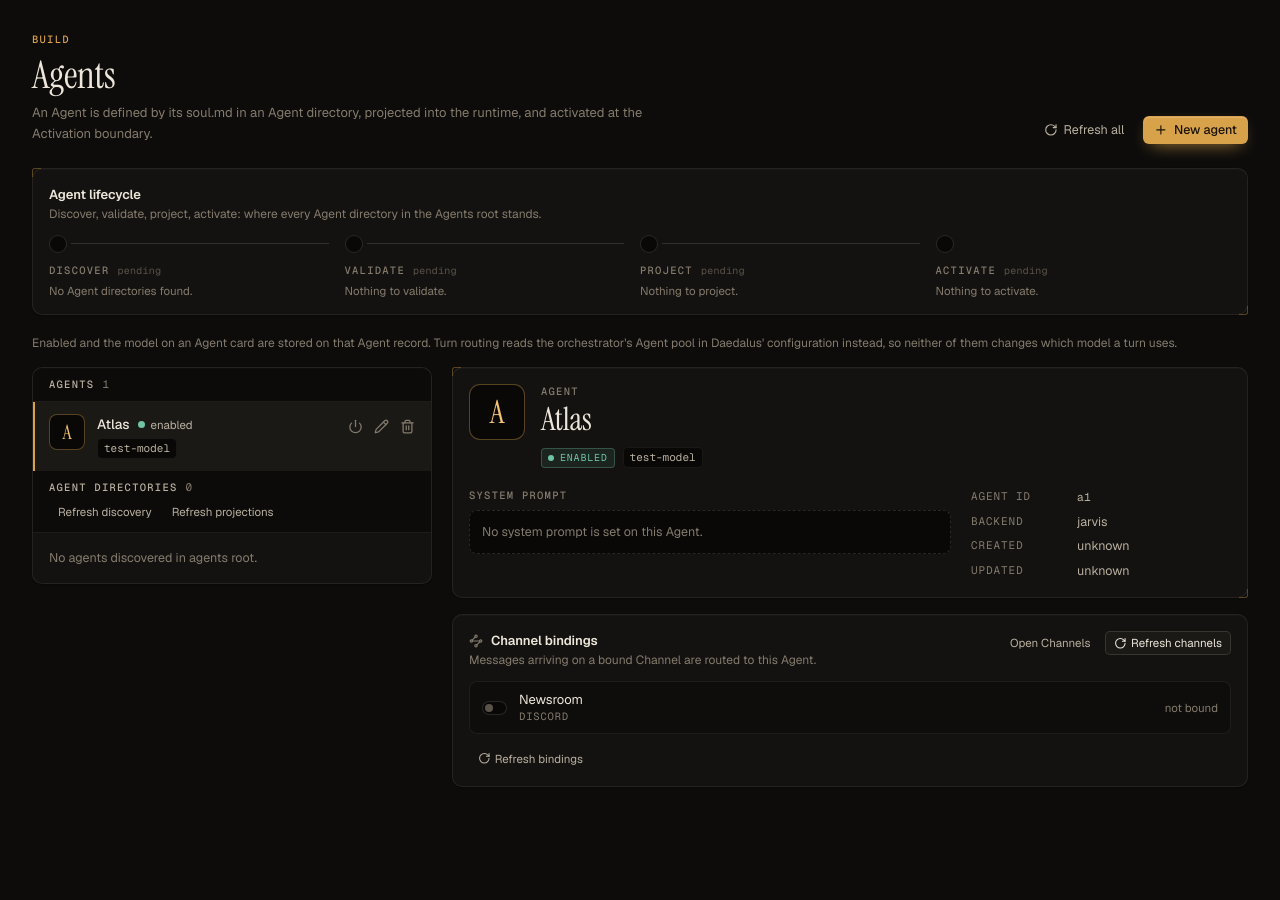
Test: Agent channel resources › surfaces a failed mutation without changing the known snapshot and reloads before another attempt
Expected: the heading "Atlas" is shown, [97,414,130,434]
Click the button "Newsroom discord not bound": (551,699) [470,682,1230,733]
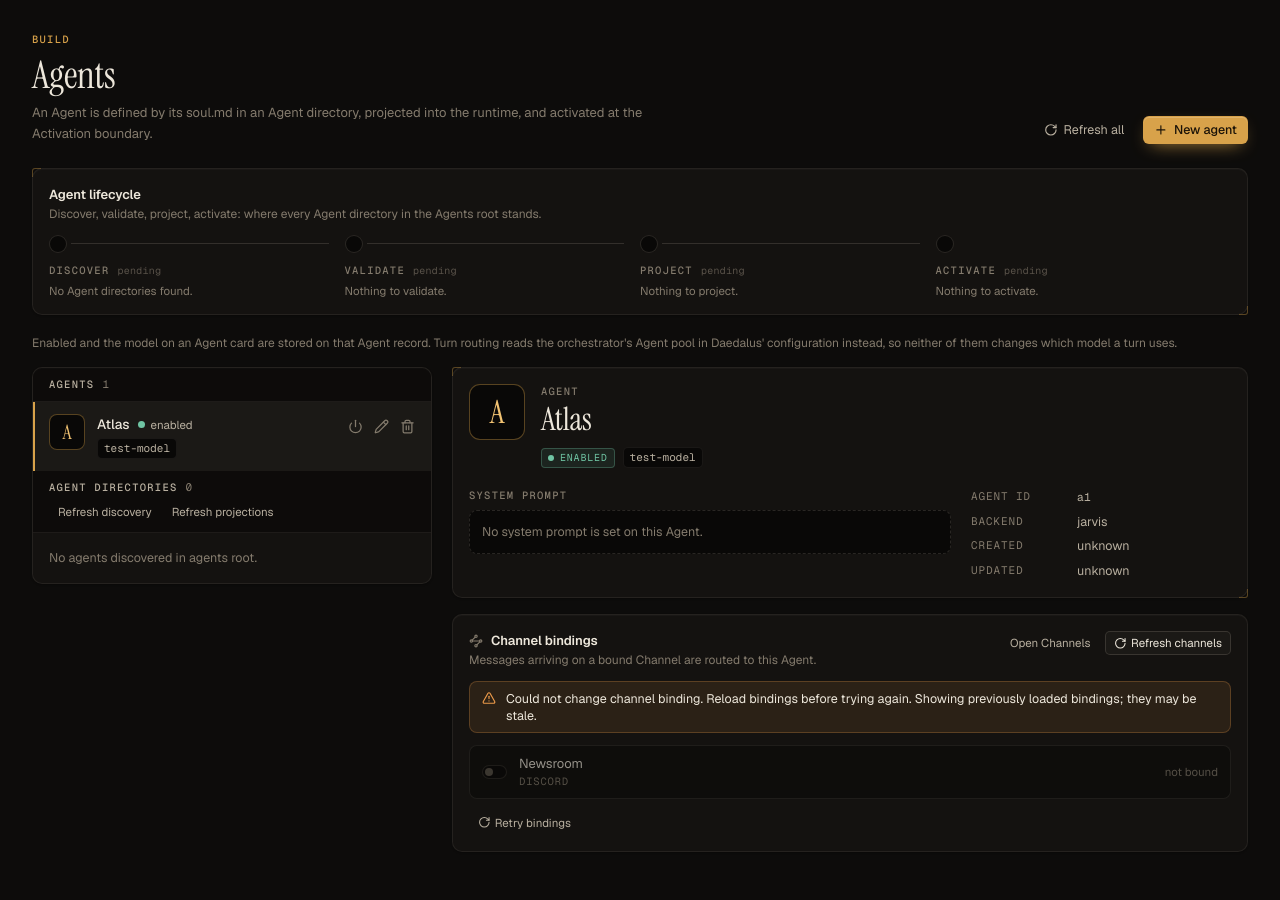
Now the message shows "Could not change channel binding", box [506,690,915,707]
Now the button "Newsroom discord not bound" is disabled, box [470,746,1230,798]
Click the button with aria-label "Retry bindings for Atlas": (524,822) [469,810,580,834]
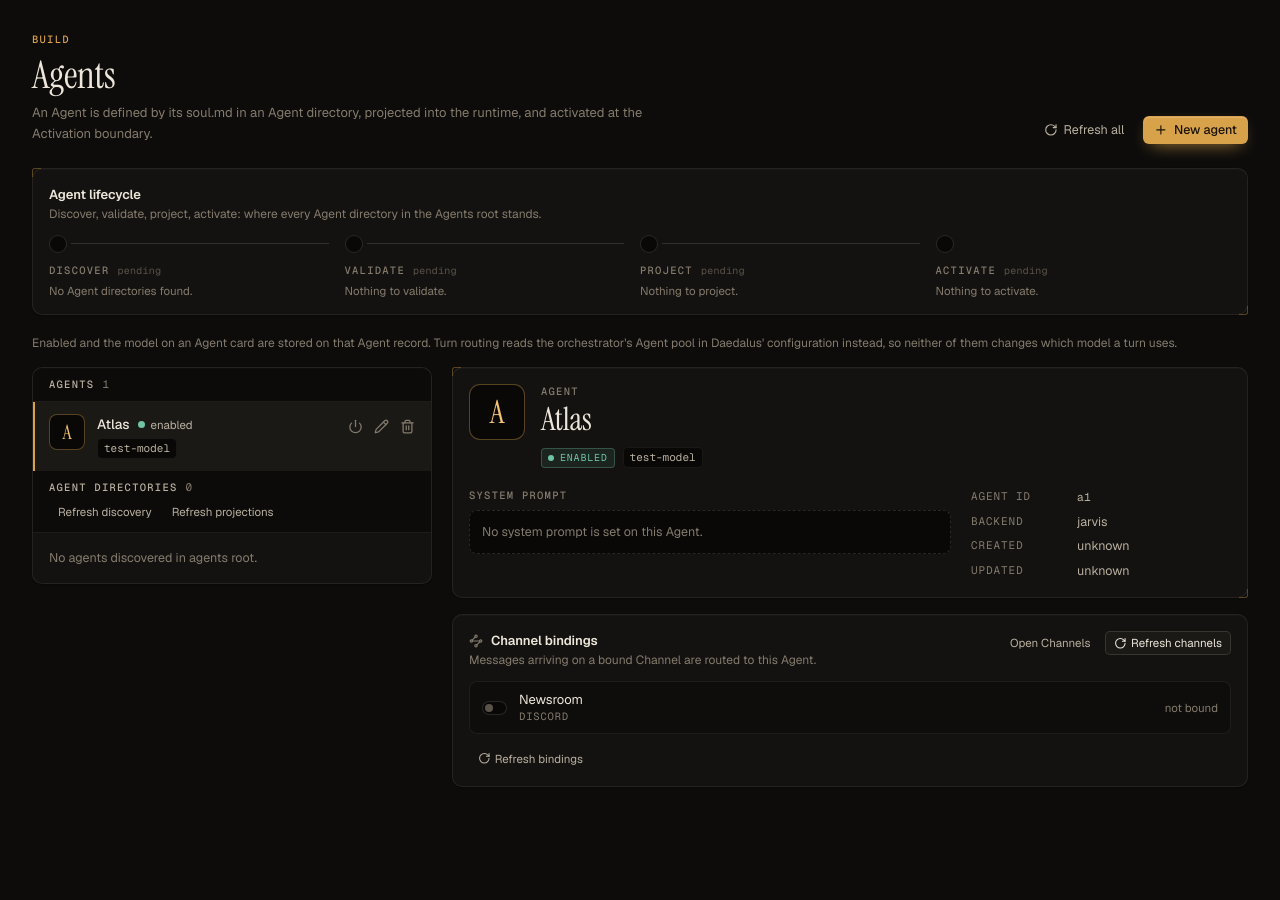
Now the button "Newsroom discord not bound" is enabled, box [470,682,1230,733]
